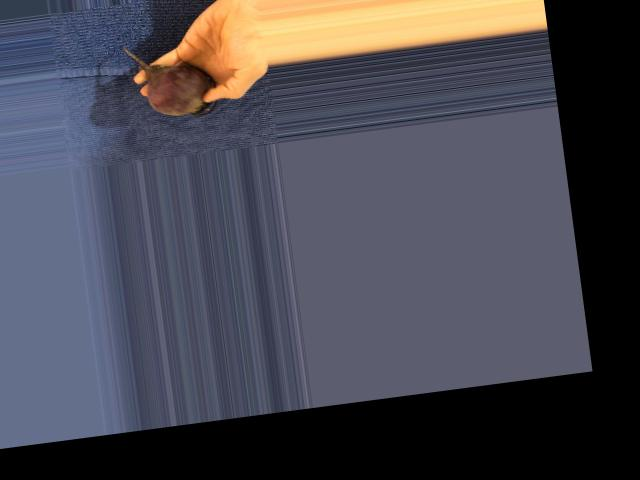beet: (122, 35, 218, 124)
